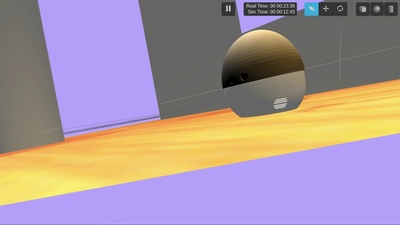mira_robot: (222, 29, 306, 118)
